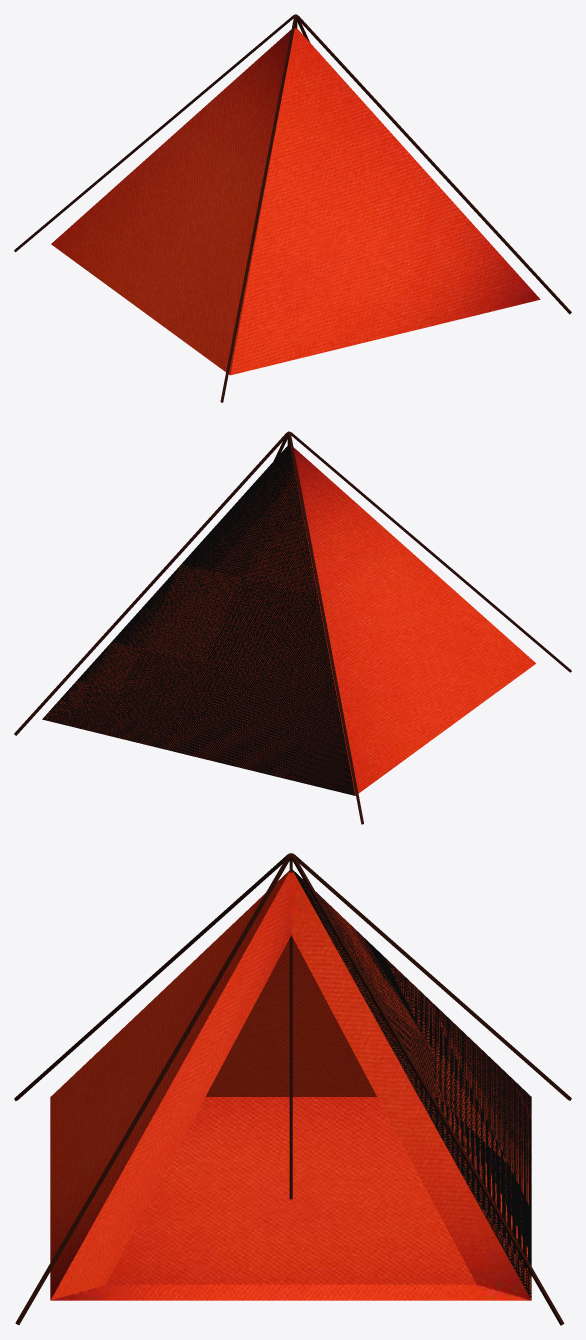
File: tendaoren.fbx
The picture shows the model from 3 angles, top to bottom: view 1: azimuth 30°, elevation 25°; view 2: azimuth 150°, elevation 25°; view 3: azimuth 270°, elevation 25°; orthographic projection. The views are drawn at different scales.
Visible parts, largest first — view 1: Plane, Cube; view 2: Plane, Cube; view 3: Plane, Cube.
Boxes of the visible parts, left/top/right/bottom form: Plane: left=51, top=28, right=540, bottom=375; Cube: left=14, top=14, right=571, bottom=402; Plane: left=42, top=445, right=535, bottom=795; Cube: left=14, top=431, right=571, bottom=824; Plane: left=50, top=870, right=531, bottom=1300; Cube: left=14, top=853, right=571, bottom=1325.
Size of the model in its own units: 1249 by 915 by 1277.
Materials: 2 (1 with a texture image).
